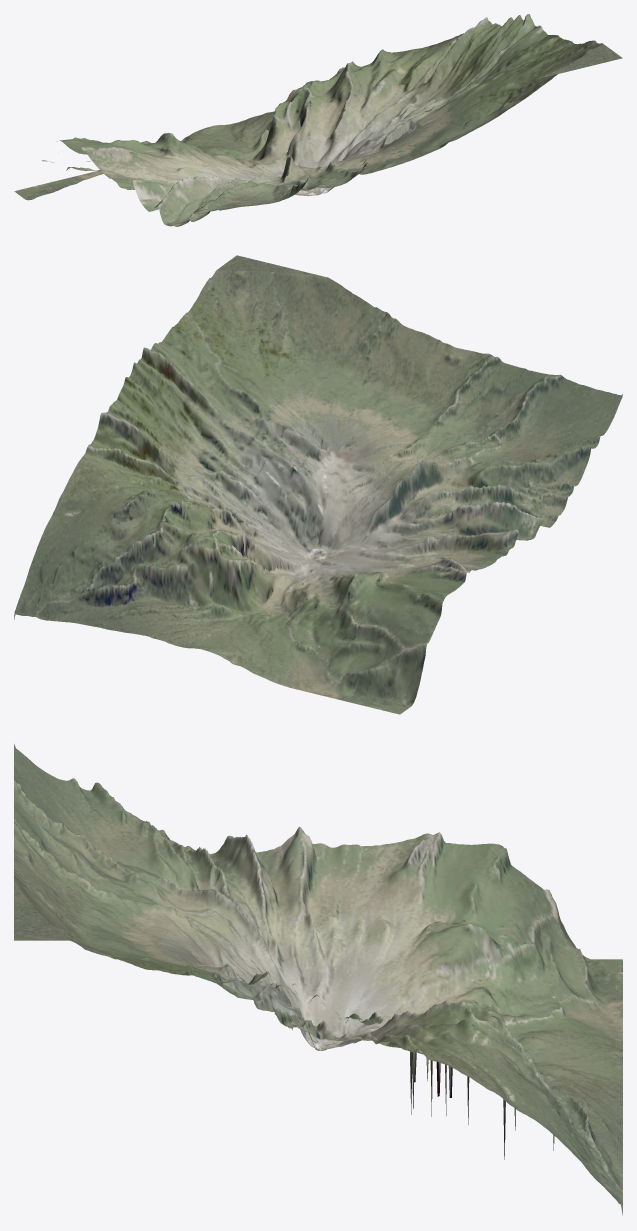
File: dsm_0f6d439d4d_mesh.glb
3 views of the same model, one above another, from view 1: azimuth 30°, elevation 25°; view 2: azimuth 150°, elevation 25°; view 3: azimuth 270°, elevation 25° (orthographic). The views are drawn at different scales.
Parts seen in each view (by area): view 1: geometry_0; view 2: geometry_0; view 3: geometry_0.
Part boxes in pixels (x1,y1,x2,y2): geometry_0: (14, 14, 622, 226); geometry_0: (14, 255, 622, 714); geometry_0: (14, 744, 622, 1215).
Size of the model in its own units: 2 by 1 by 2.
